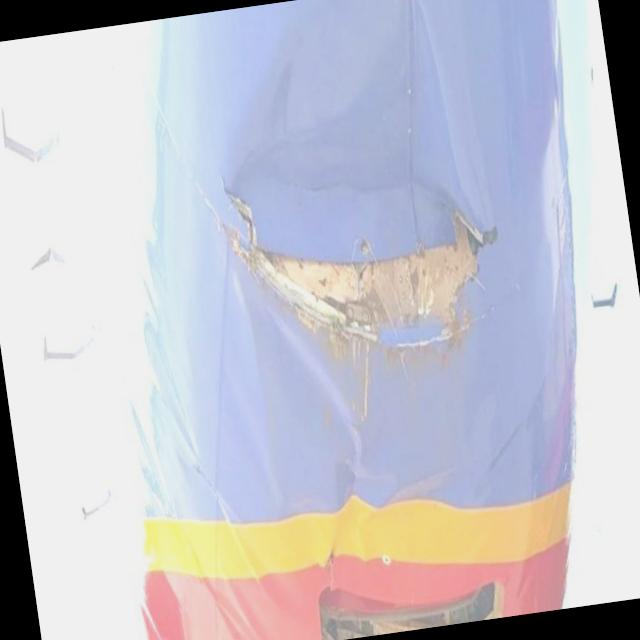crack: (198, 142, 500, 388)
